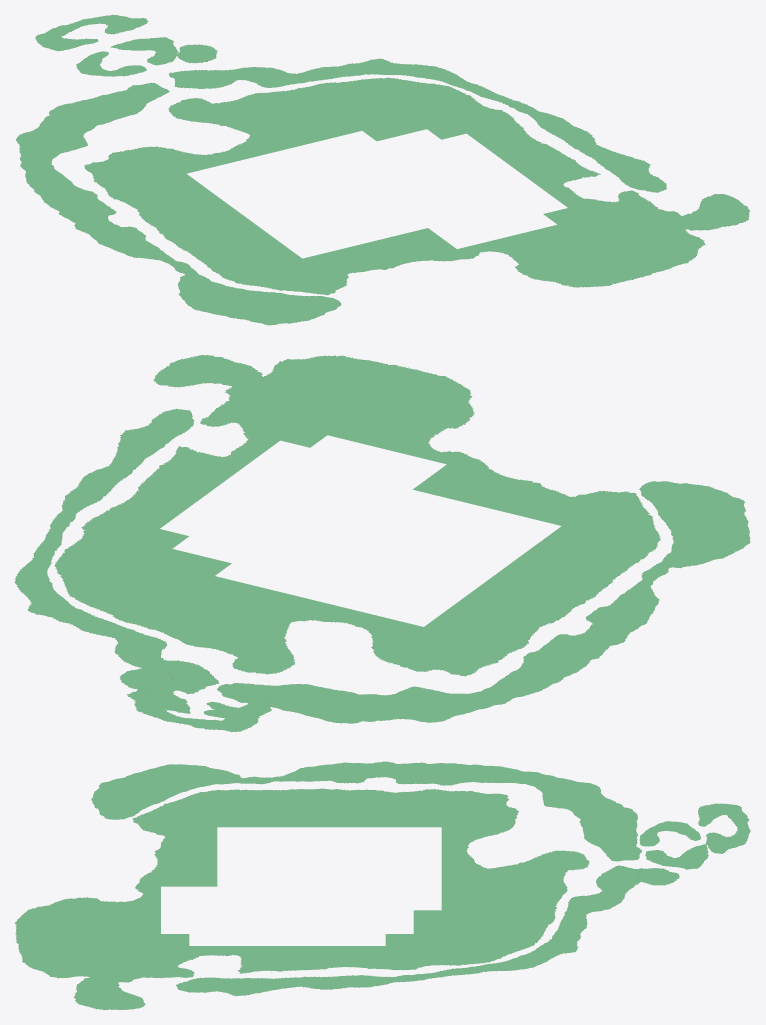
The model's file is Mesh_Home_RF_Gound_02_SM.fbx.
3 views of the same model, one above another, from view 1: azimuth 30°, elevation 25°; view 2: azimuth 150°, elevation 25°; view 3: azimuth 270°, elevation 25° (orthographic). The views are drawn at different scales.
Parts seen in each view (by area): view 1: Mesh_Home_RF_Gound_02; view 2: Mesh_Home_RF_Gound_02; view 3: Mesh_Home_RF_Gound_02.
Part boxes in pixels (x1=…): Mesh_Home_RF_Gound_02: x1=16, y1=14, x2=749, y2=325; Mesh_Home_RF_Gound_02: x1=14, y1=355, x2=750, y2=732; Mesh_Home_RF_Gound_02: x1=15, y1=761, x2=750, y2=1009.
Size of the model in its own units: 6314 by 269 by 7891.
Materials: 1 (1 with a texture image).
